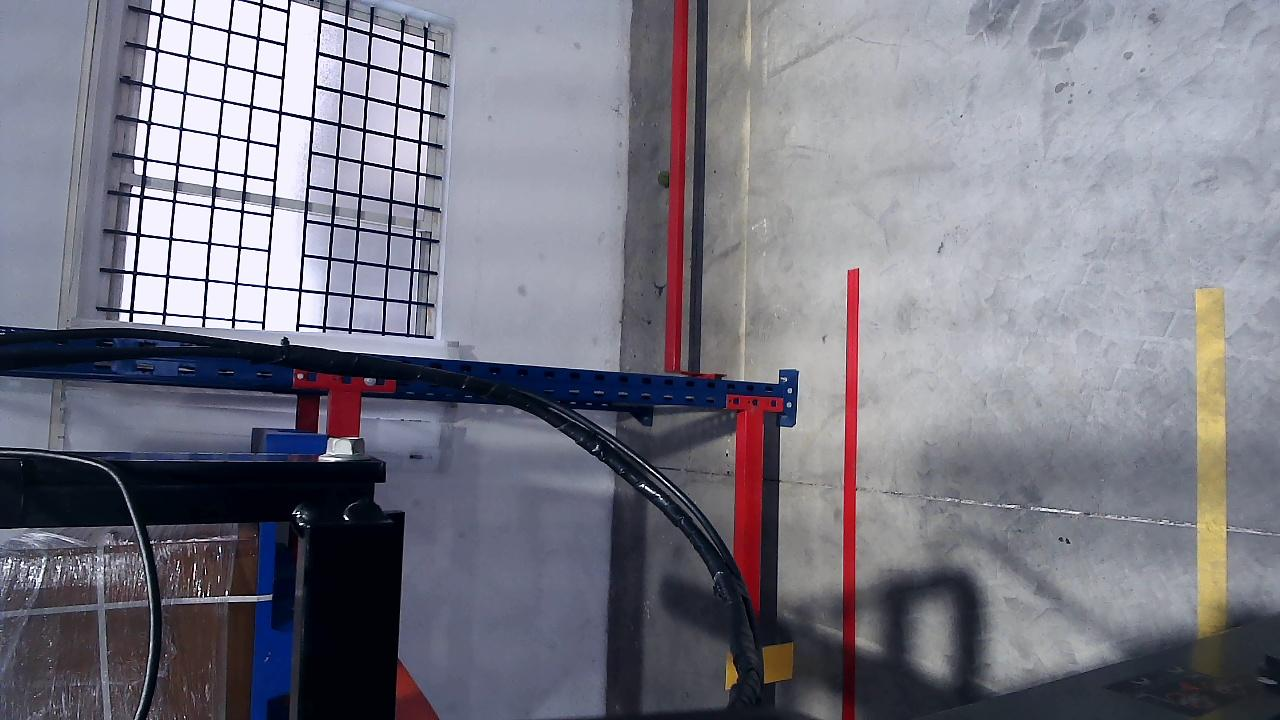h_rack: (733, 409, 768, 702)
orange_strip: (762, 642, 793, 682)
red_line: (845, 265, 867, 714)
yellow_line: (1195, 288, 1227, 636)
